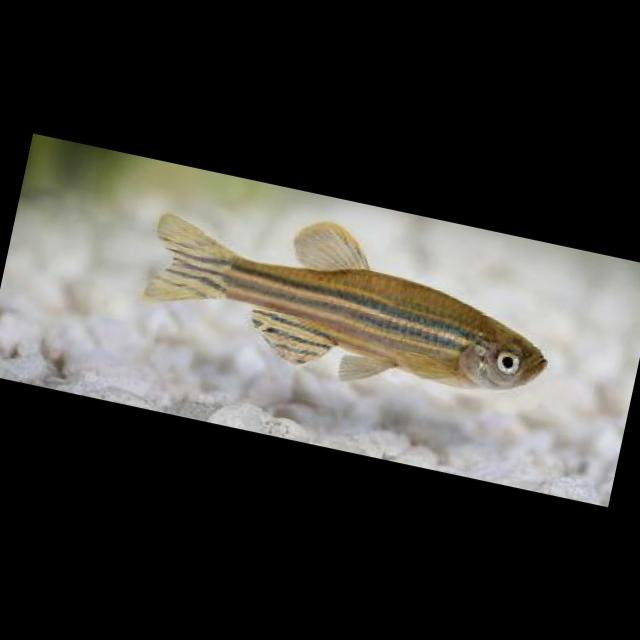ZebraFish: (133, 182, 569, 414)
